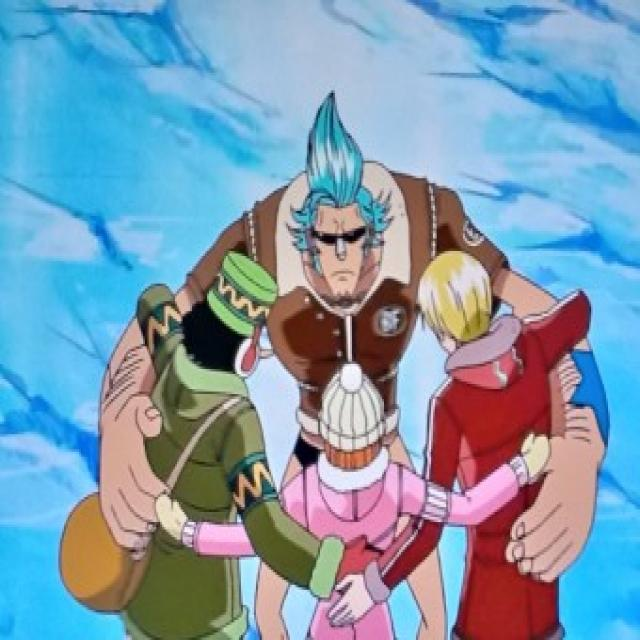Franky: (288, 82, 382, 312)
Nami: (310, 366, 400, 490)
Sangdi: (409, 252, 514, 368)
Usopp: (178, 259, 288, 381)
